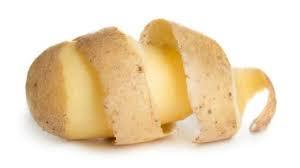Organic: (22, 17, 300, 148)
